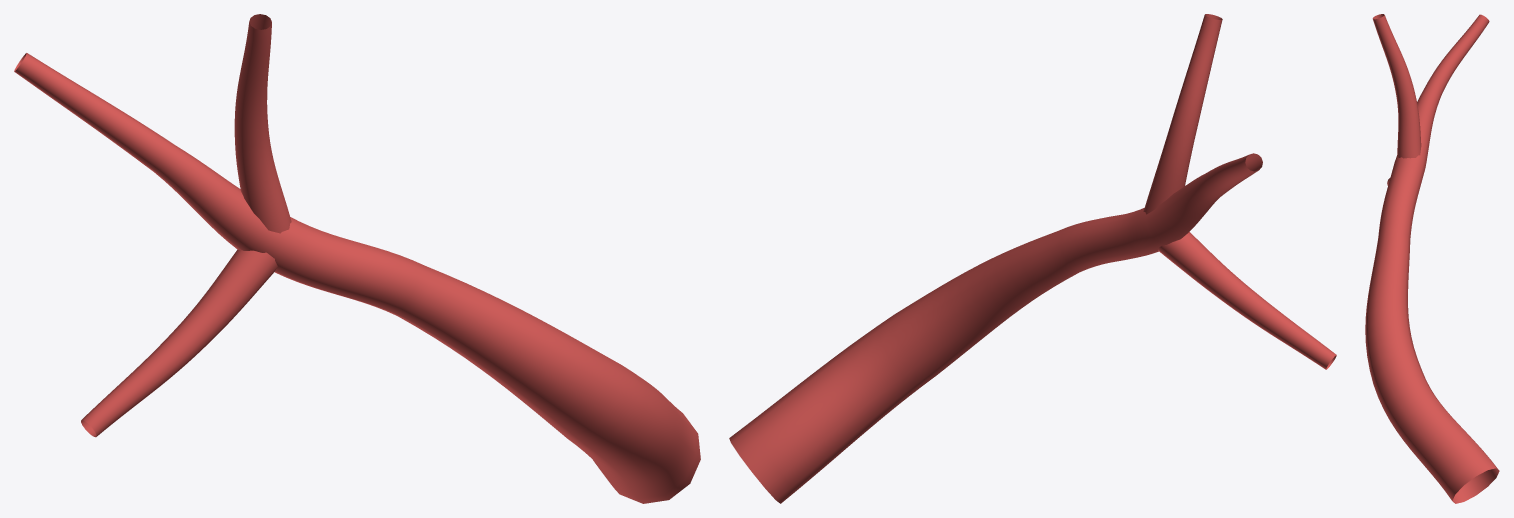
3 views of the same model, side by side, from view 1: azimuth 30°, elevation 25°; view 2: azimuth 150°, elevation 25°; view 3: azimuth 270°, elevation 25° (orthographic). The views are drawn at different scales.
Parts seen in each view (by area): view 1: 右肺后段动脉; view 2: 右肺后段动脉; view 3: 右肺后段动脉.
Boxes of the visible parts, left/top/right/bottom form: 右肺后段动脉: left=14, top=14, right=700, bottom=503; 右肺后段动脉: left=729, top=14, right=1336, bottom=503; 右肺后段动脉: left=1365, top=14, right=1499, bottom=503.
Size of the model in its own units: 0.1007 by 0.0928 by 0.0311.
